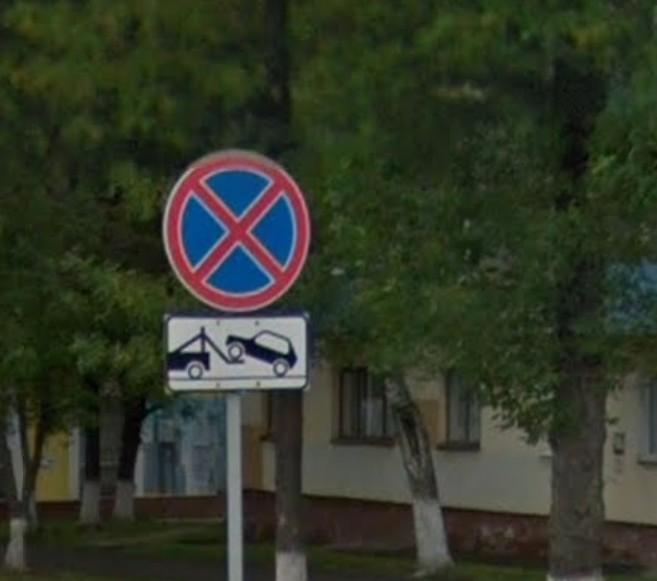No Parking: (163, 148, 313, 316)
